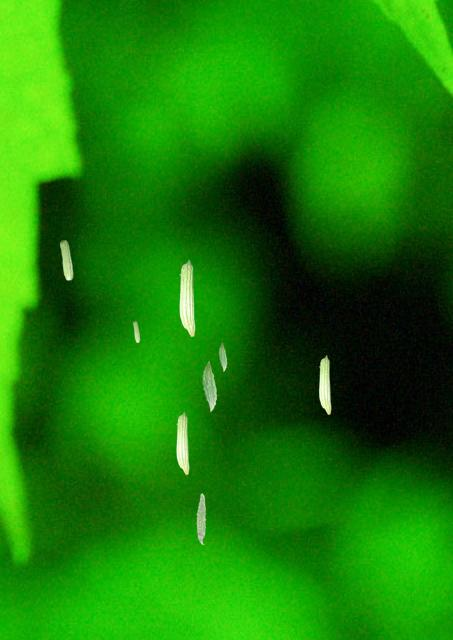ampalaya: (179, 259, 195, 337), (176, 411, 189, 475), (318, 355, 331, 415), (202, 361, 217, 412), (59, 239, 73, 280), (196, 492, 206, 545), (218, 342, 227, 372), (132, 320, 140, 343)
